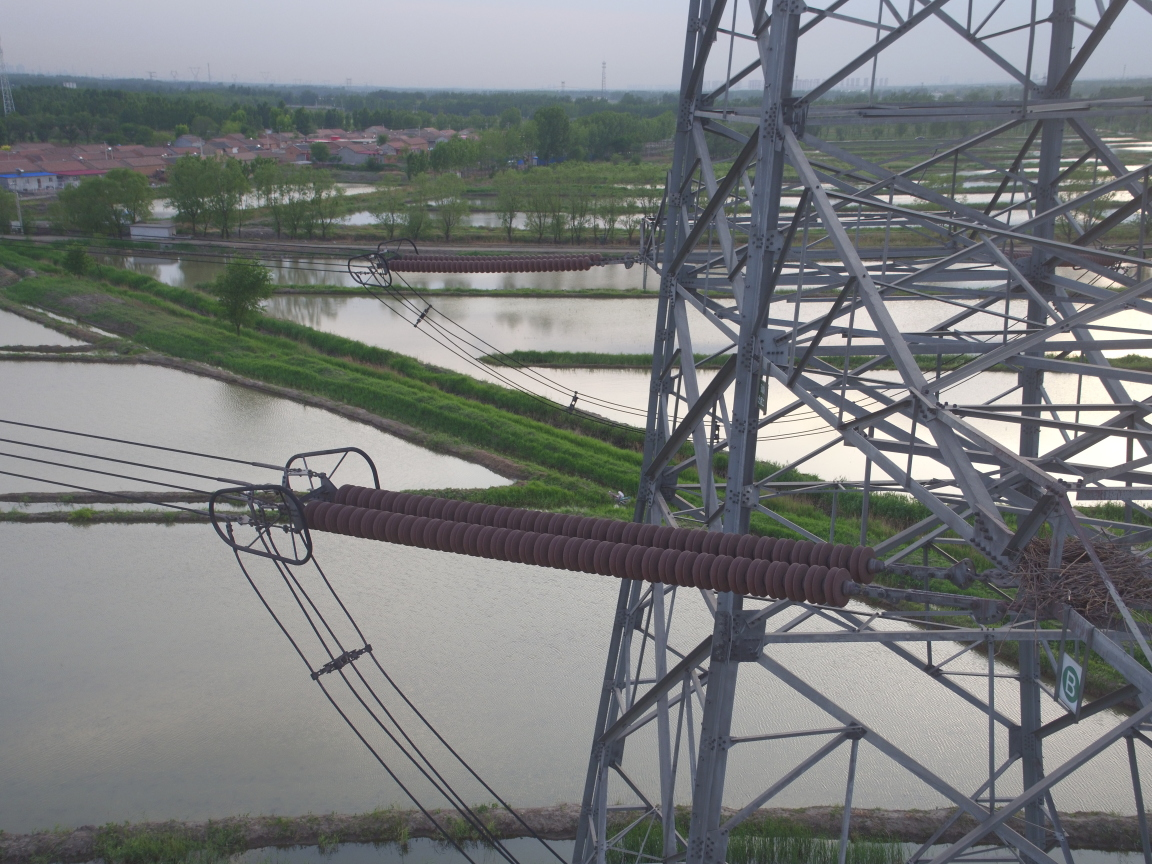insulator: (288, 475, 925, 611), (372, 246, 618, 274)
